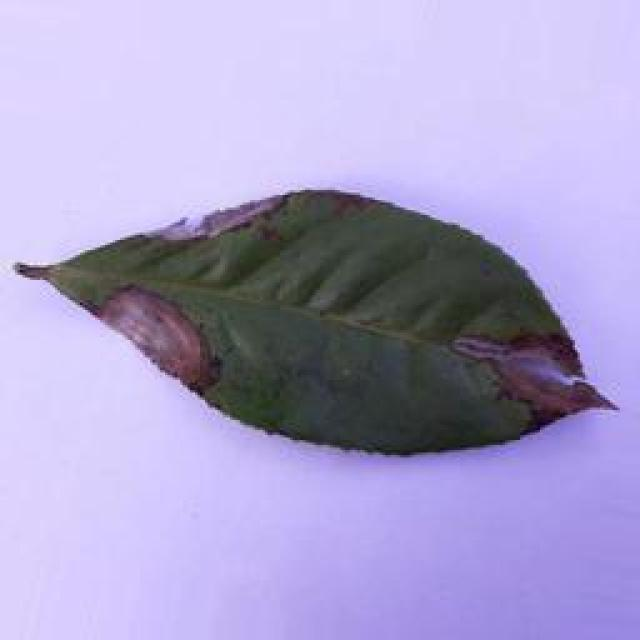Gray Blight: (12, 185, 626, 458)
